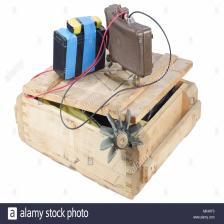MOH-50: (105, 0, 158, 82)
